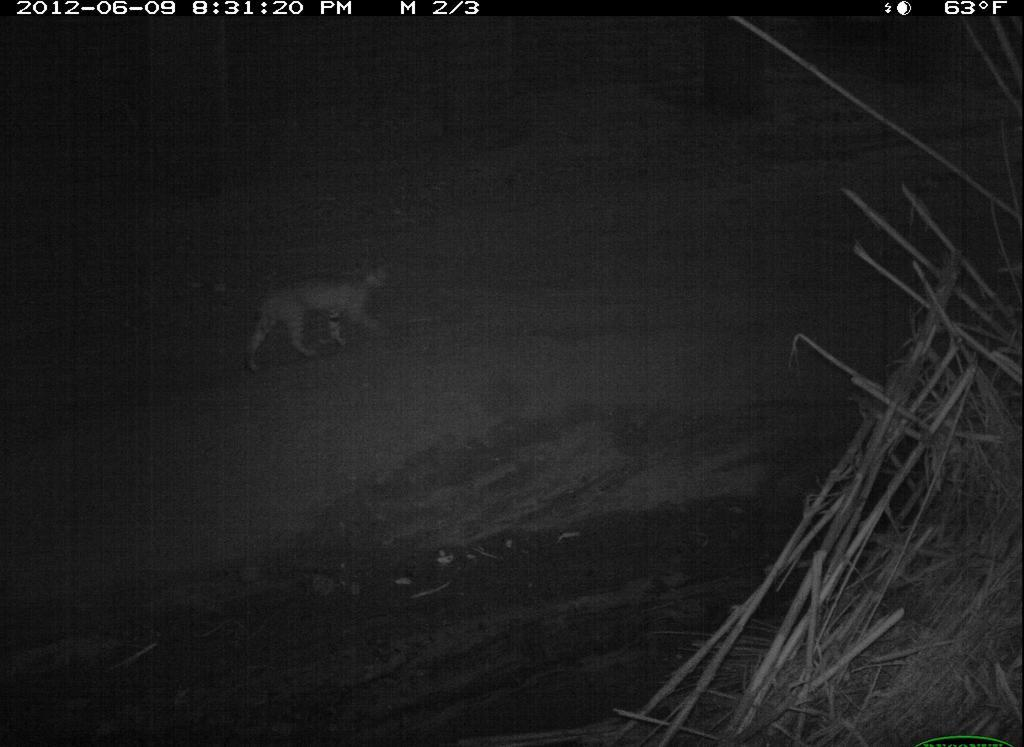bobcat: (214, 253, 409, 381)
